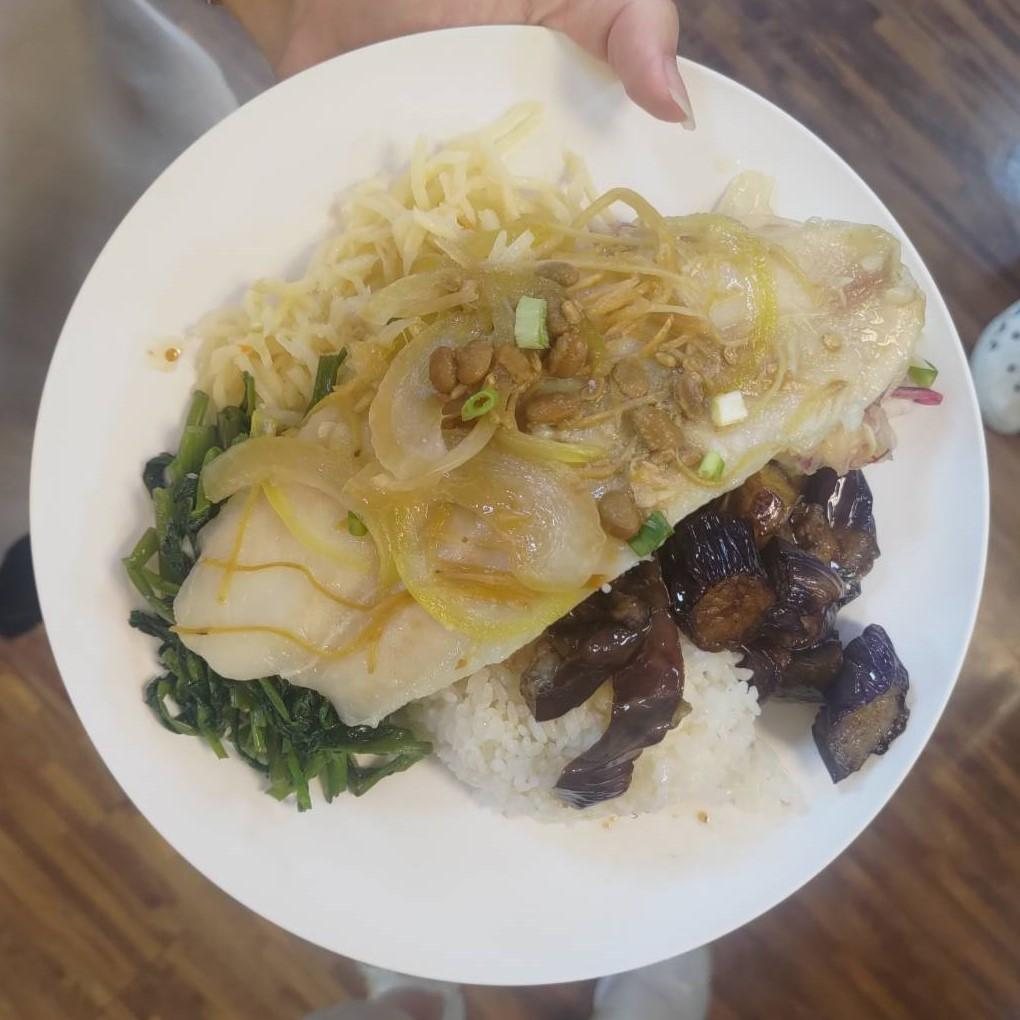big fried chicken leg: (35, 28, 1005, 992)
big herbal chicken leg: (397, 558, 768, 826)
braised fish fillet: (185, 125, 643, 421), (531, 473, 908, 810), (130, 390, 431, 800)
braised pork ribs: (147, 208, 918, 734)
